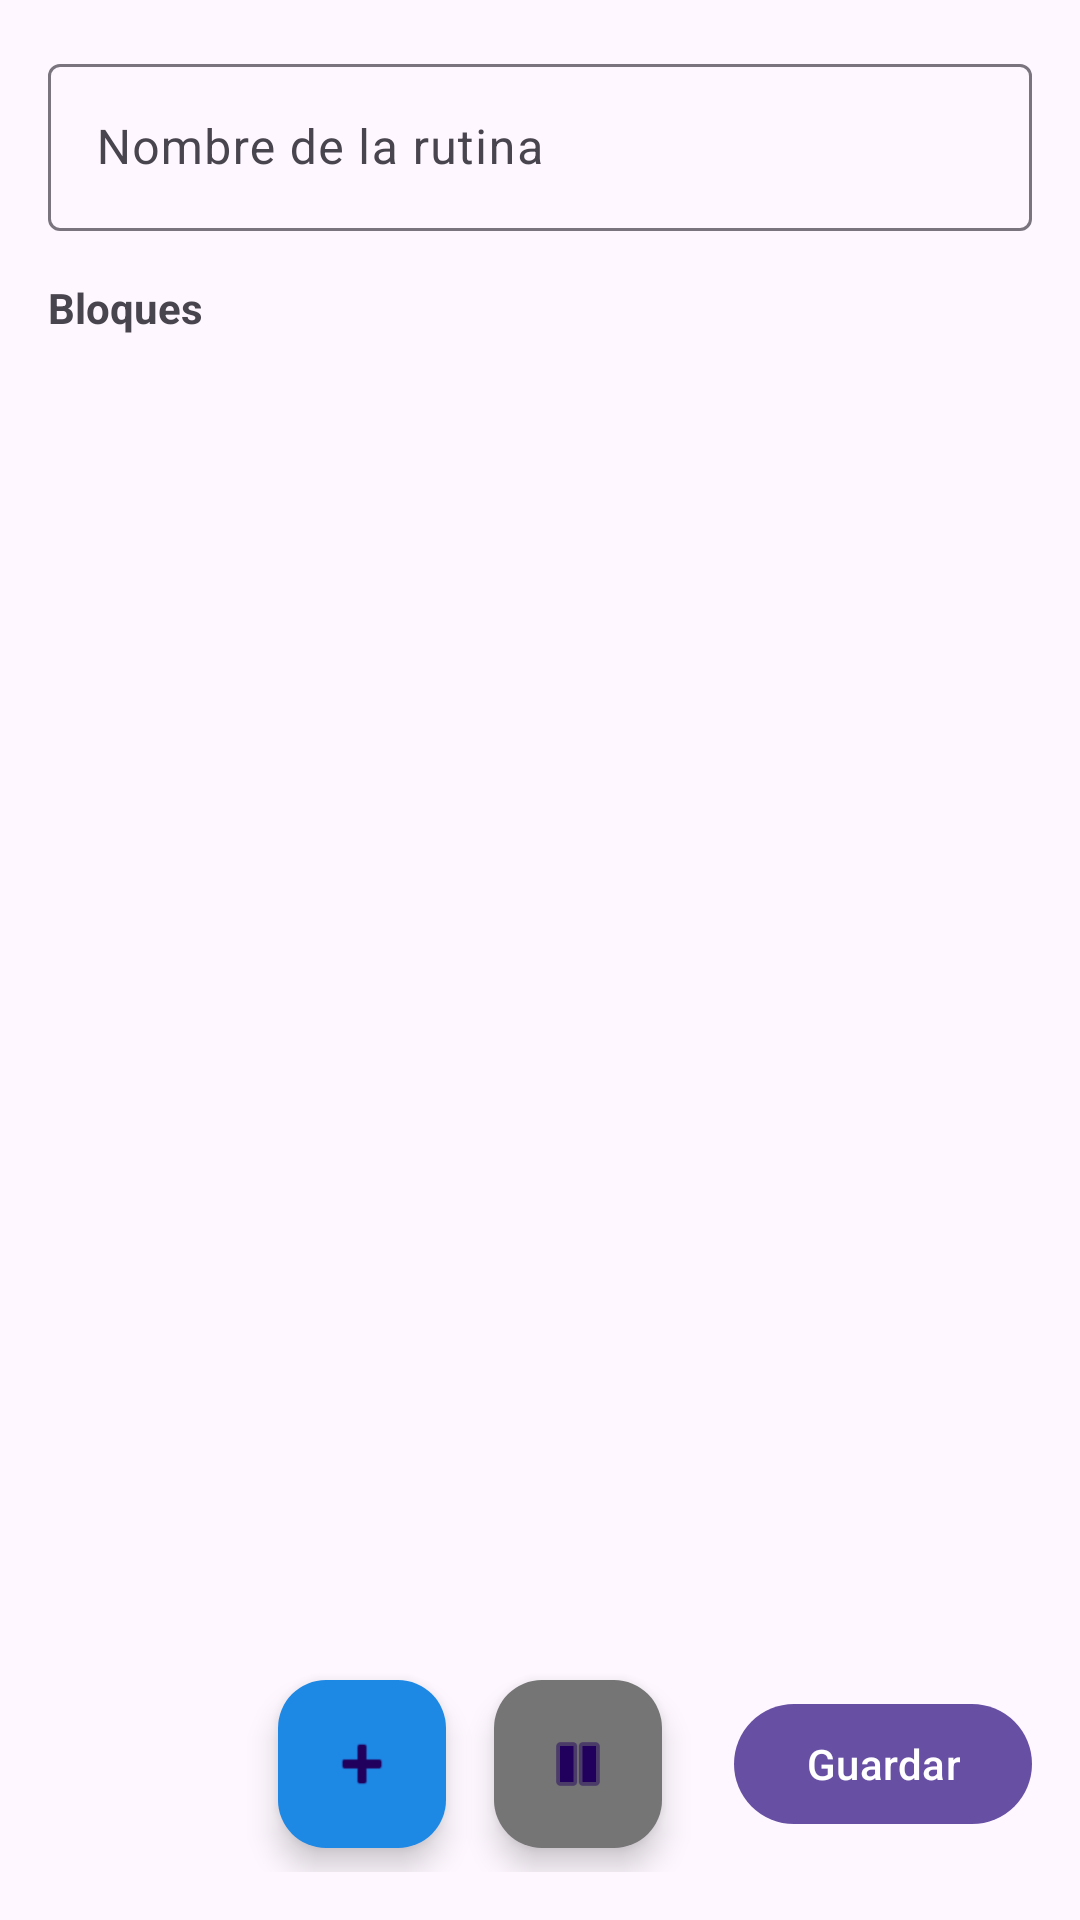

Icon click points for this 1080w x 1920h phone screenshot, format point (x, y):
Añadir bloque de pausa: point (578, 1764)
Añadir bloque de tarea: point (362, 1764)
